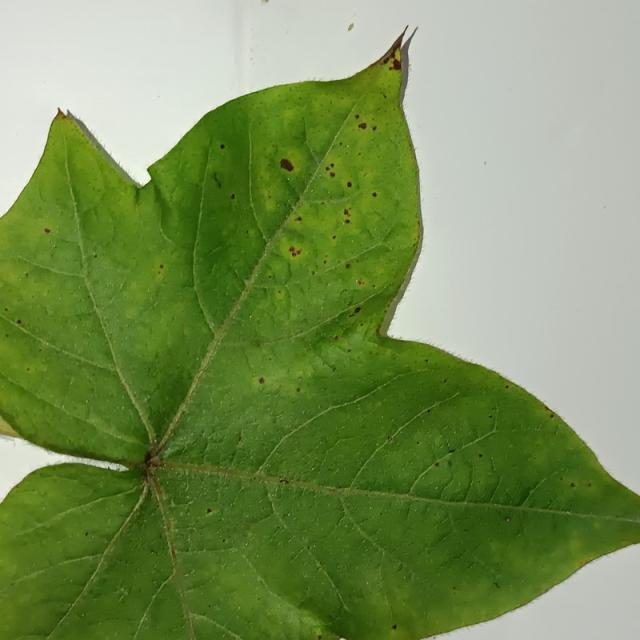Bacterial_Blight: (140, 451, 161, 475), (276, 155, 296, 173), (342, 208, 351, 224), (288, 246, 301, 257), (390, 58, 401, 70), (348, 307, 360, 317), (358, 122, 367, 130), (279, 478, 289, 485), (348, 23, 354, 32), (258, 377, 265, 384), (44, 228, 51, 234), (295, 216, 302, 222), (357, 279, 364, 285), (383, 56, 389, 63), (206, 508, 212, 514), (345, 263, 351, 269), (16, 319, 22, 325), (333, 335, 339, 341), (329, 172, 335, 177), (570, 482, 576, 487), (372, 125, 377, 131), (387, 435, 392, 441), (392, 624, 397, 630), (449, 449, 455, 454), (549, 413, 554, 418), (434, 462, 439, 467), (220, 144, 225, 149), (347, 182, 352, 187), (372, 192, 377, 197), (159, 264, 164, 269), (504, 384, 509, 389), (289, 247, 294, 252), (354, 114, 359, 119), (478, 453, 483, 458), (325, 166, 330, 171), (230, 194, 235, 199), (296, 387, 301, 392), (505, 517, 510, 522), (4, 307, 9, 312), (426, 408, 431, 413), (488, 415, 493, 419), (424, 358, 429, 362), (330, 163, 334, 168), (93, 254, 98, 258), (332, 235, 336, 240), (588, 482, 592, 487), (25, 273, 29, 277), (311, 271, 315, 275), (26, 368, 30, 371)
Cotton: (0, 34, 639, 639)
